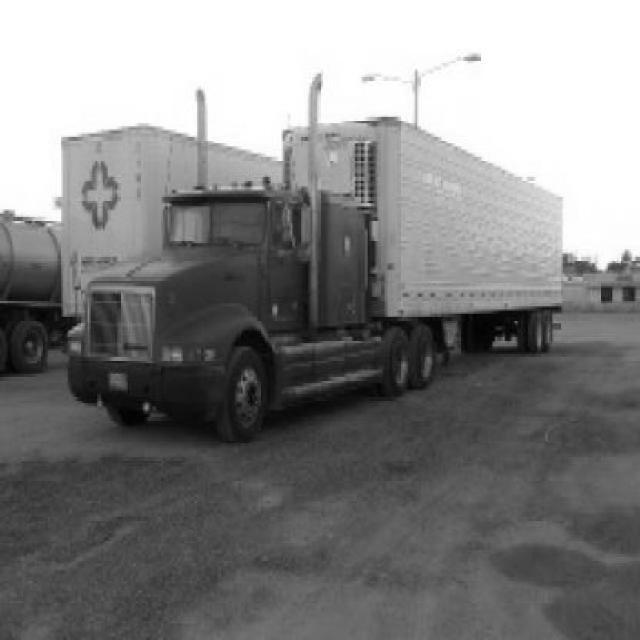Tractor Trailer: (66, 77, 565, 446)
